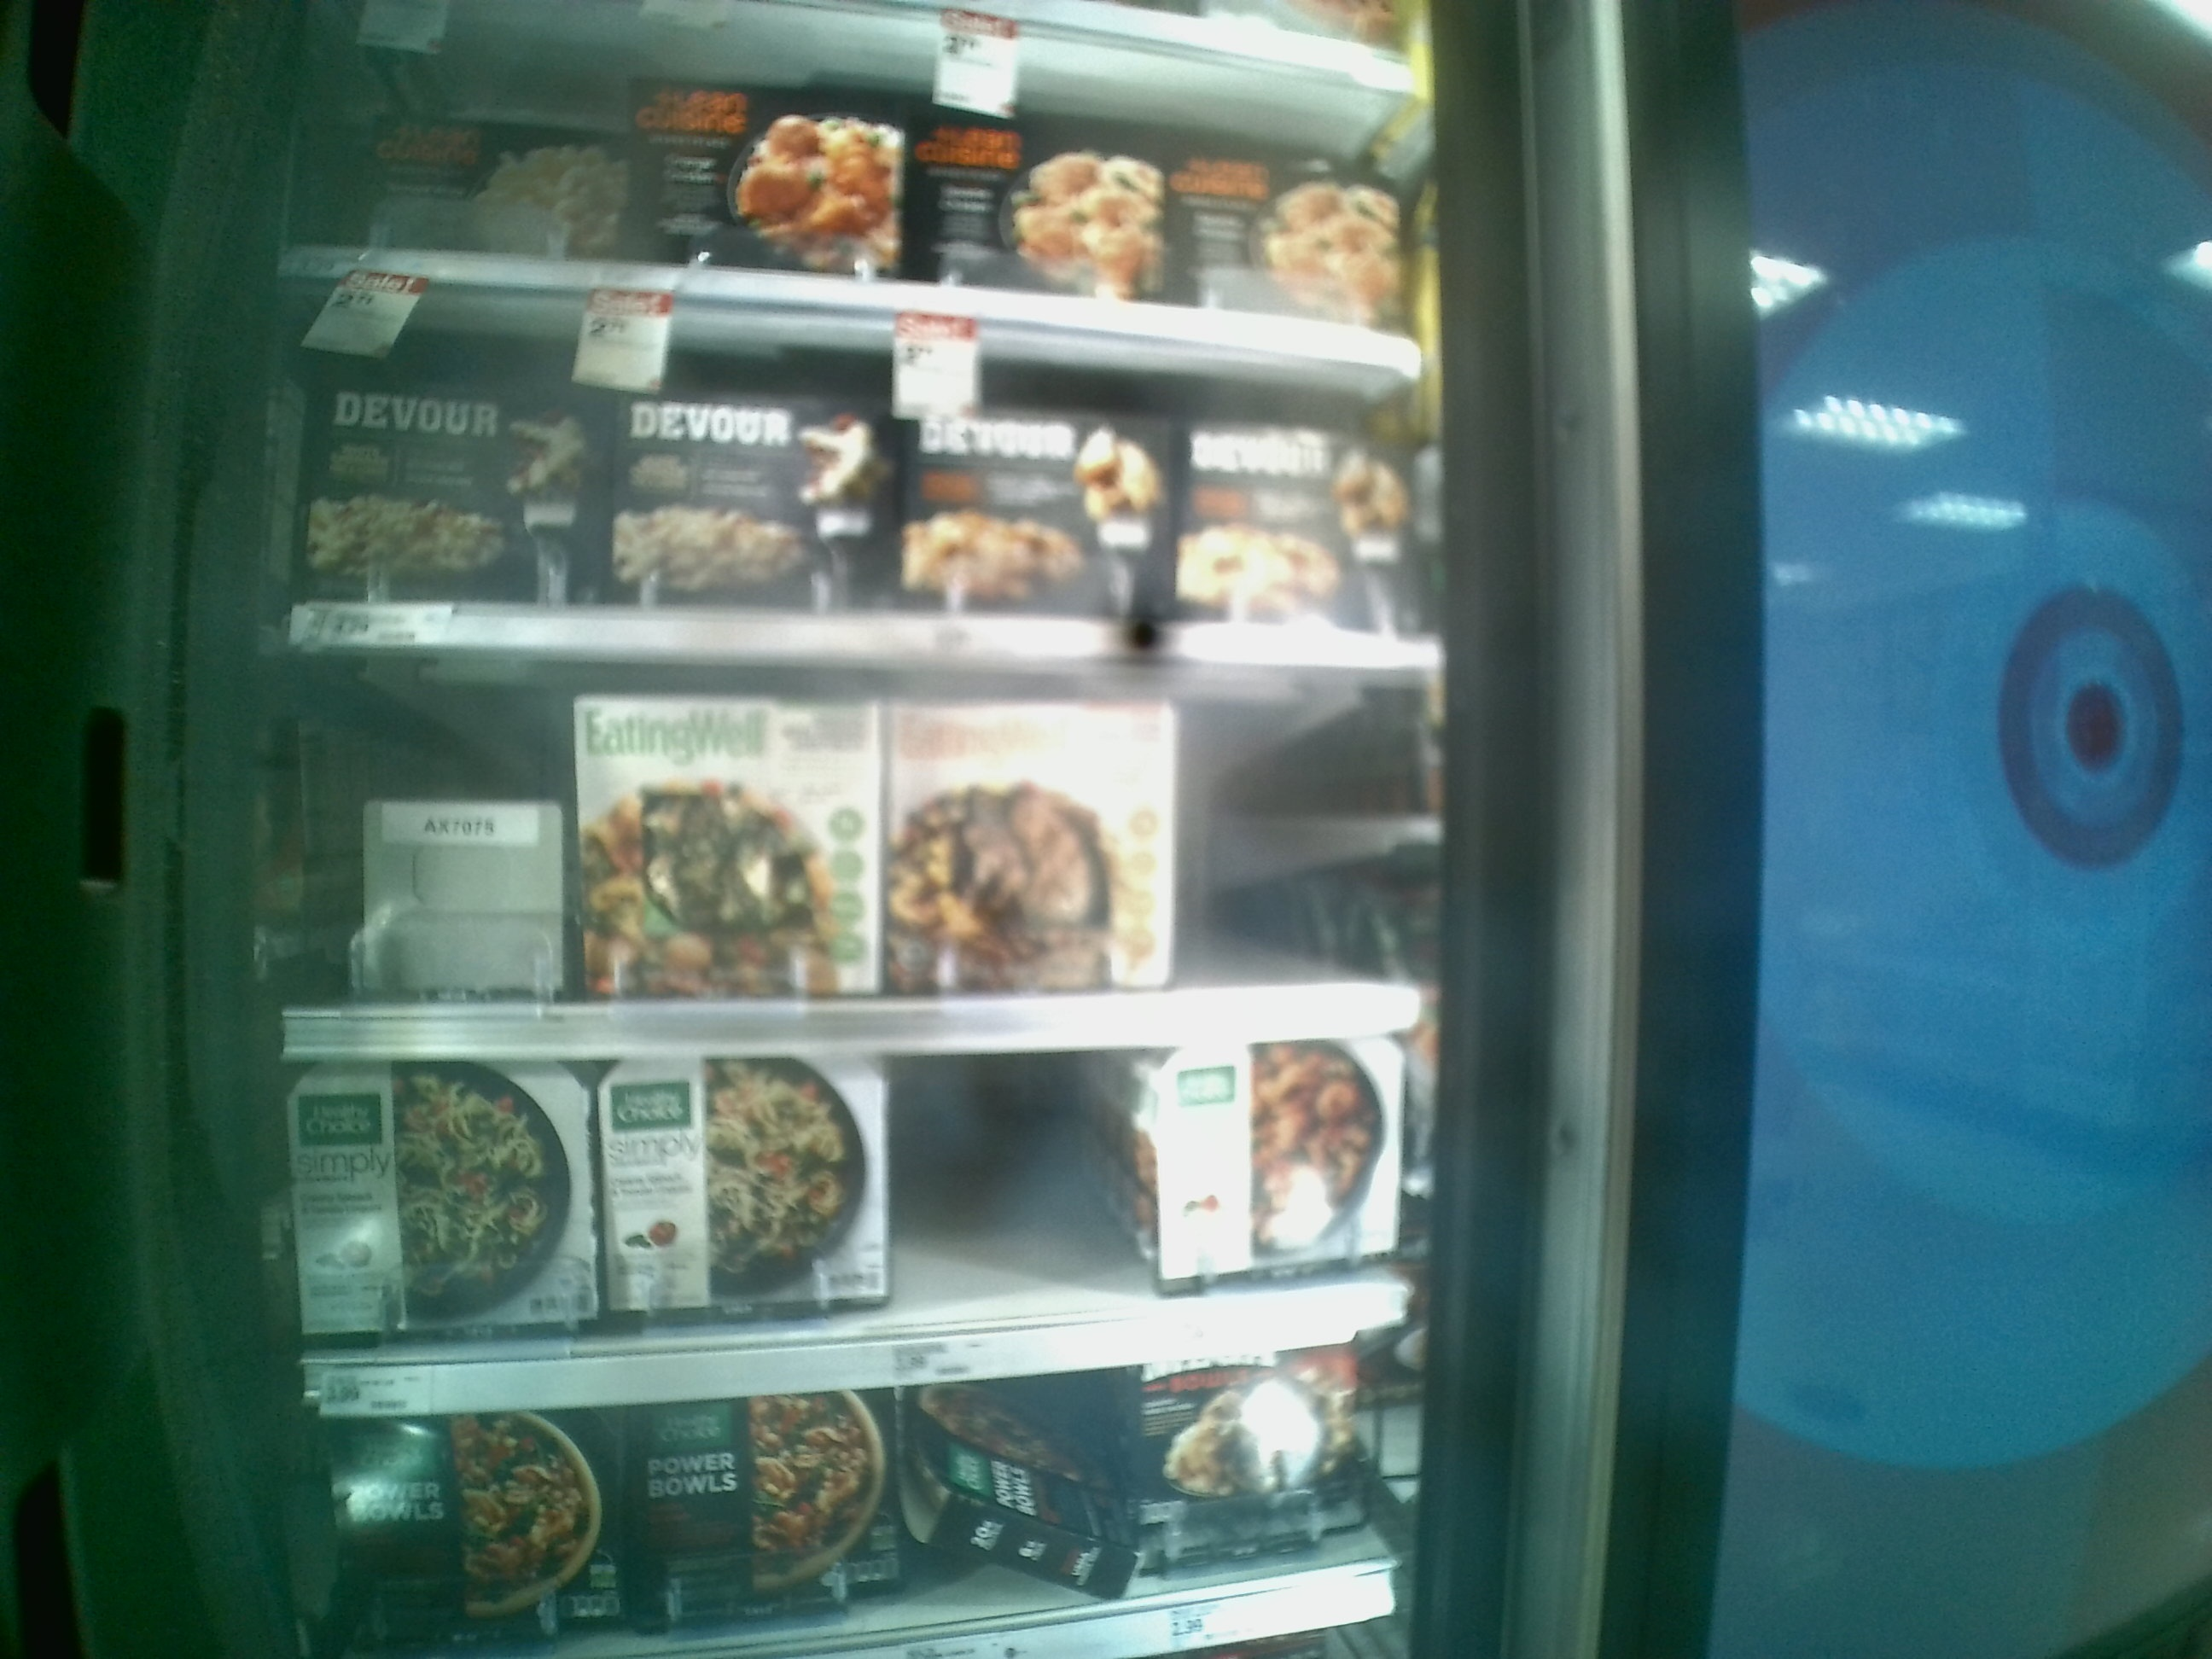shelf: (266, 636, 1453, 1039), (272, 1040, 1463, 1422), (282, 267, 1444, 657)
